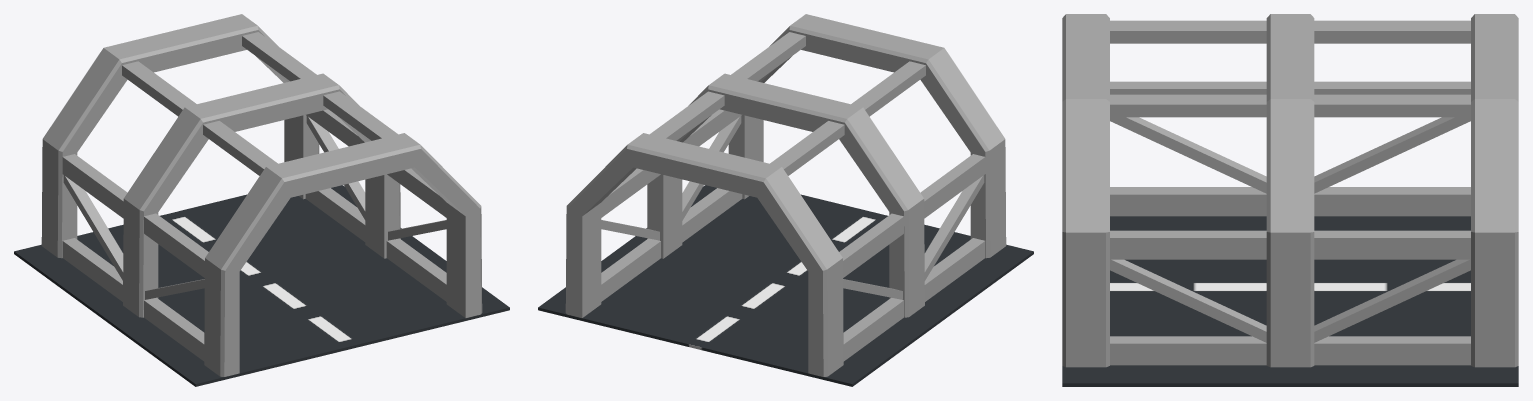
The model's file is kartkids_base_trk_460_tun_openframe_mid_1x1.gltf.
3 renders of one model, left to right at view 1: azimuth 30°, elevation 25°; view 2: azimuth 150°, elevation 25°; view 3: azimuth 270°, elevation 25°, orthographic. The views are drawn at different scales.
Parts seen in each view (by area): view 1: kartkids_base_trk_460_tun_openframe_mid_1x1, kartkids_base_trk_460_tun_openframe_mid_1x1.001; view 2: kartkids_base_trk_460_tun_openframe_mid_1x1, kartkids_base_trk_460_tun_openframe_mid_1x1.001; view 3: kartkids_base_trk_460_tun_openframe_mid_1x1, kartkids_base_trk_460_tun_openframe_mid_1x1.001.
Boxes of the visible parts, box(x1,y1,x2,y2) form: kartkids_base_trk_460_tun_openframe_mid_1x1: box(41, 14, 482, 376); kartkids_base_trk_460_tun_openframe_mid_1x1.001: box(14, 185, 509, 386); kartkids_base_trk_460_tun_openframe_mid_1x1: box(565, 14, 1006, 376); kartkids_base_trk_460_tun_openframe_mid_1x1.001: box(538, 185, 1033, 386); kartkids_base_trk_460_tun_openframe_mid_1x1: box(1062, 14, 1518, 367); kartkids_base_trk_460_tun_openframe_mid_1x1.001: box(1062, 216, 1518, 386).
Size of the model in its own units: 10 by 5.66 by 10.
Materials: 2 (1 with a texture image).
